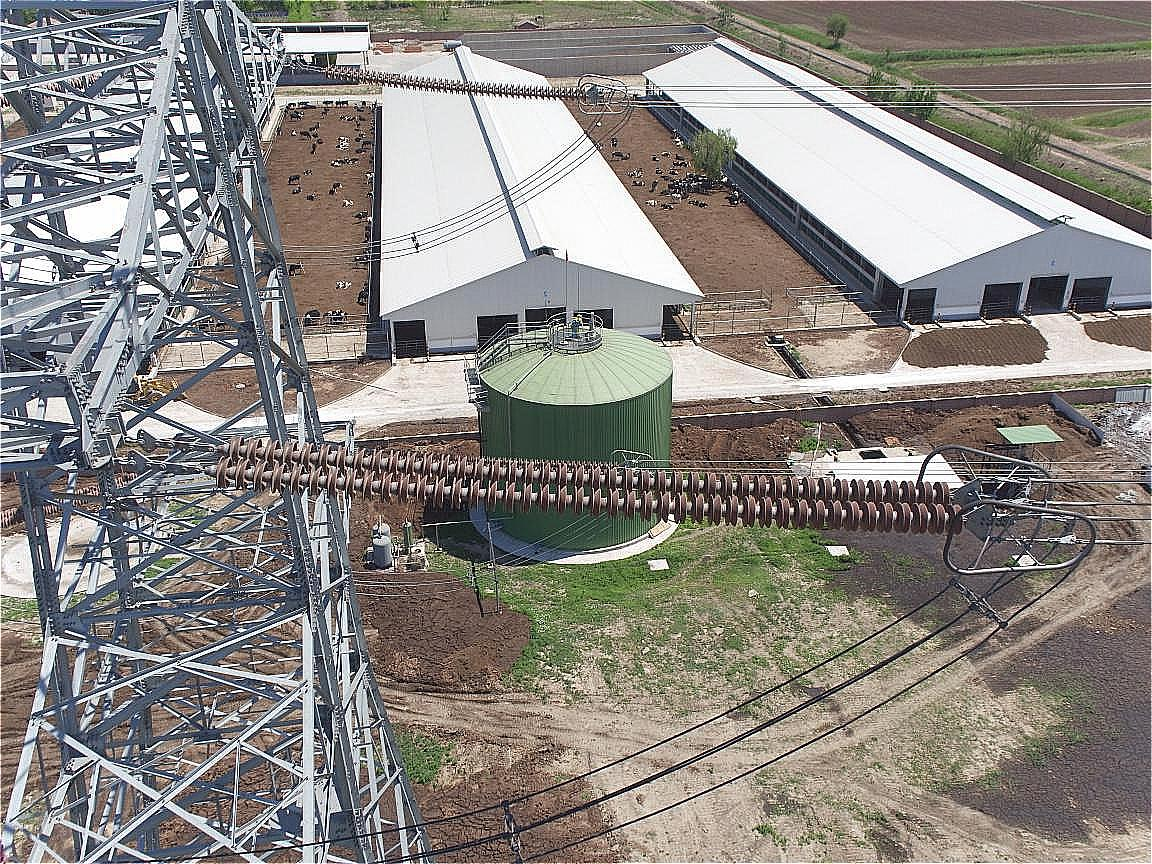insultor2: (213, 435, 965, 534), (325, 61, 590, 104)
